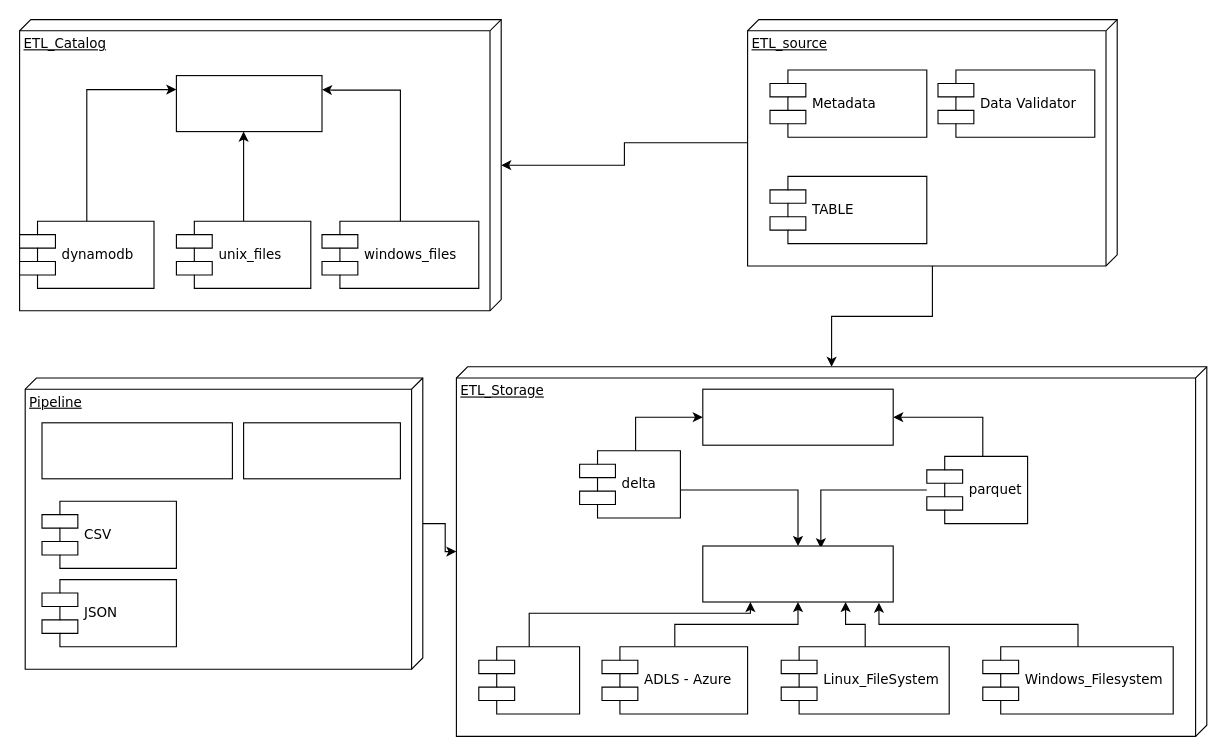
The diagram is 1226 pixels wide and 756 high, and some of its shapes have lost their labels. The centre of each missing label's shape, as x and y in pixels:
"s3" goes at point 529,680.
"«interface» Catalog_abstract" goes at point 248,103.
"«interface» platform_abstract" goes at point 797,573.
"«interface» reader_abstract" goes at point 136,450.
"«interface» storage_abstract" goes at point 797,416.
"«interface» writer_abstract" goes at point 321,450.
